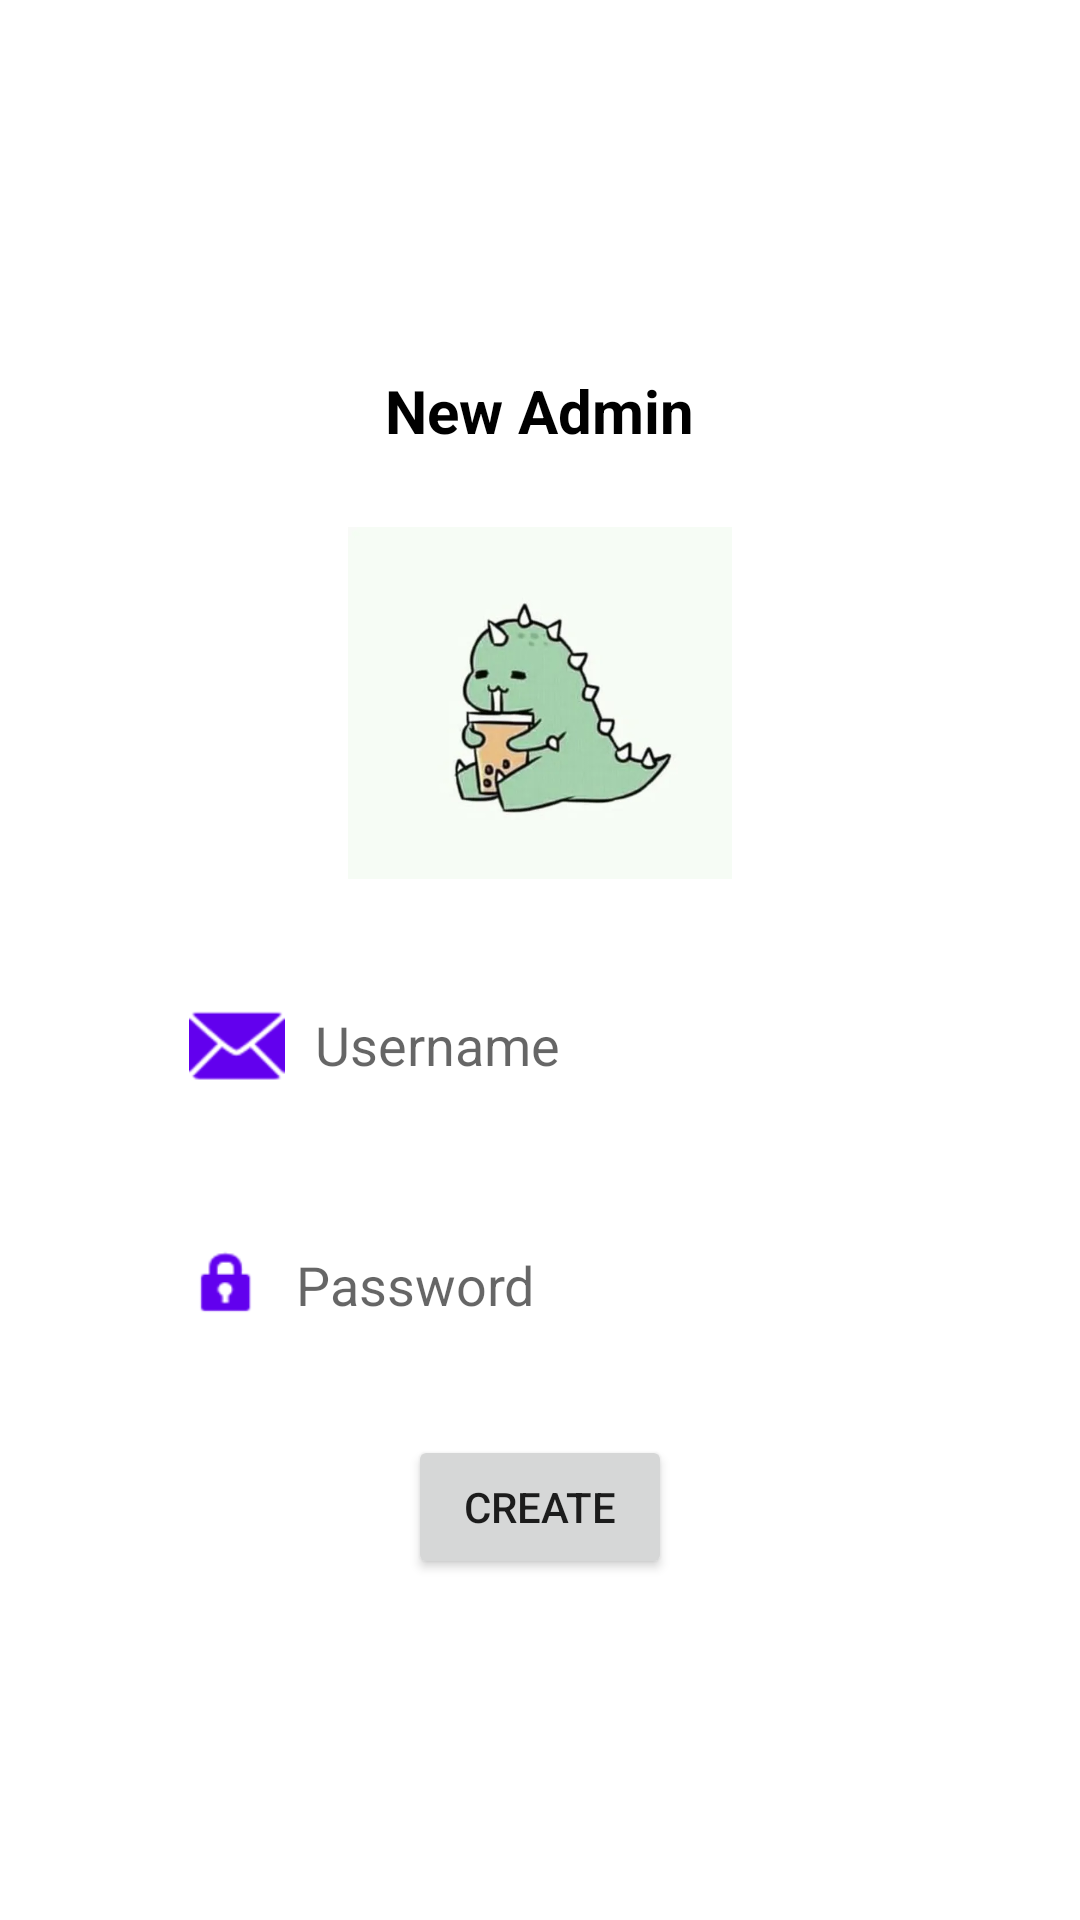

Where to tap for icons on this 1080x1920 app screen, as (x=x, y=y):
dinasour: (x=563, y=708)
